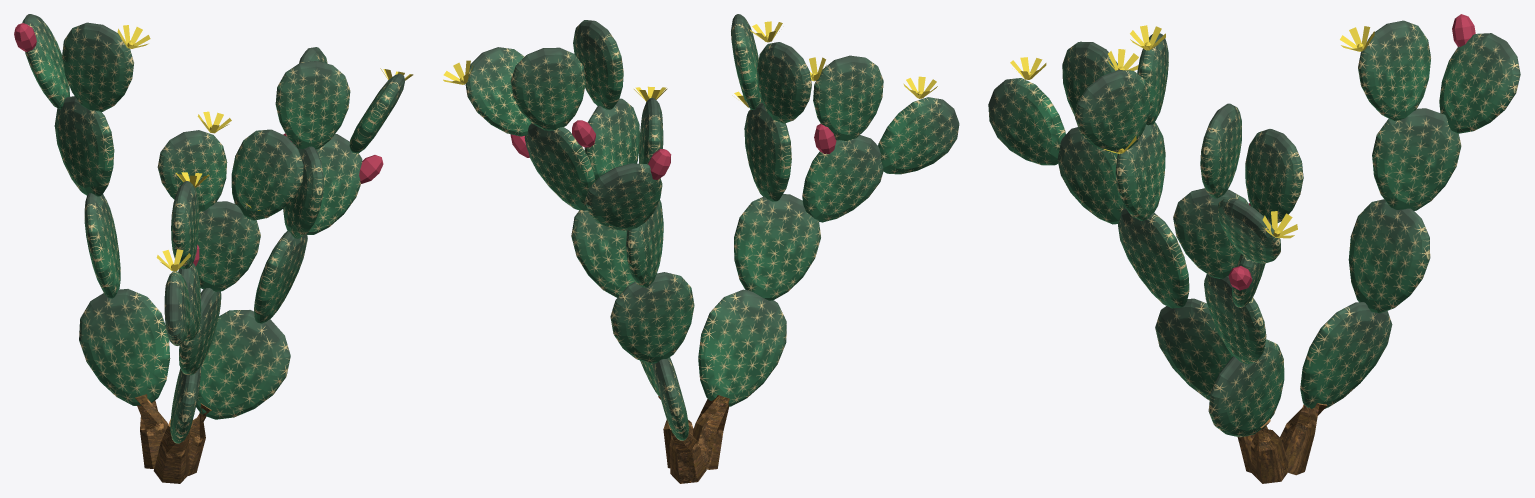
File: prickly_pear_v02.fbx
3 renders of one model, left to right at view 1: azimuth 30°, elevation 25°; view 2: azimuth 150°, elevation 25°; view 3: azimuth 270°, elevation 25°, orthographic. The views are drawn at different scales.
Visible parts, largest first — view 1: prickly_pear_v02; view 2: prickly_pear_v02; view 3: prickly_pear_v02.
Part boxes in pixels (<box>): prickly_pear_v02: <box>14,14,413,483</box>; prickly_pear_v02: <box>443,14,959,483</box>; prickly_pear_v02: <box>988,14,1520,483</box>.
Size of the model in its own units: 80.88 by 85 by 92.68.
4 materials, 2 textured.
